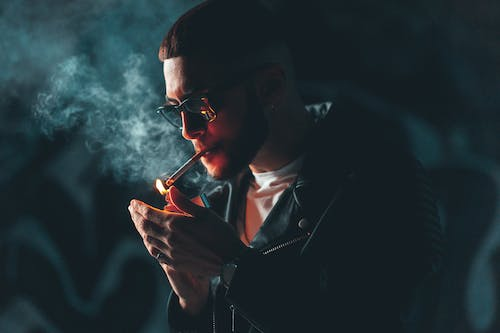cigarette: (163, 149, 206, 186)
